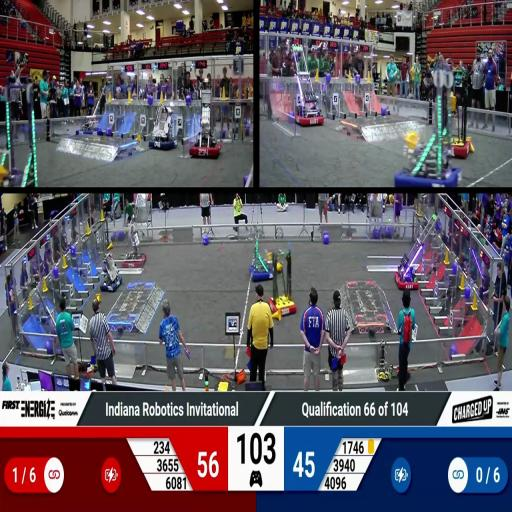robot: (395, 212, 439, 294), (267, 244, 299, 319), (122, 216, 149, 270), (249, 238, 276, 283), (100, 254, 123, 294)
